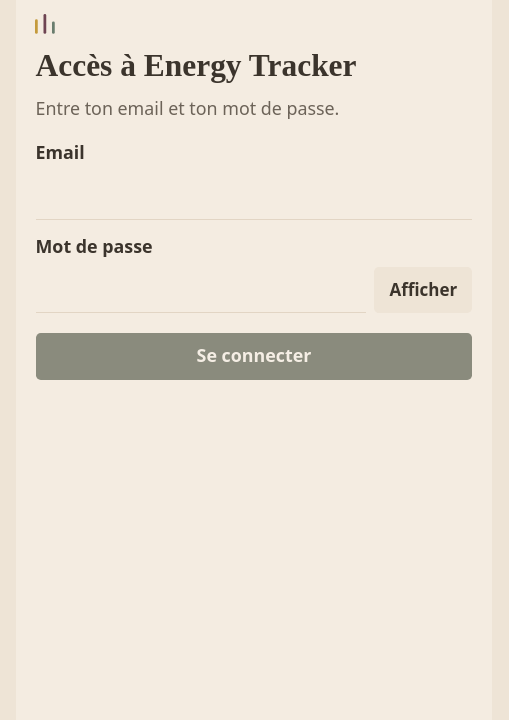
it: LoginPage › mauvais mot de passe affiche une erreur calme
The width and height of the screenshot is (509, 720).
Type "lucas@example.test" into the field labelled "Email".
click(254, 196); type("lucas@example.test")  # box [36,173,472,220]
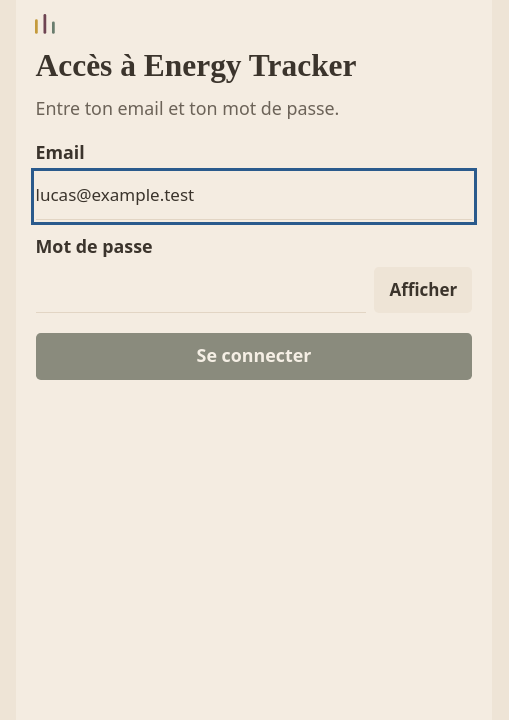
Type "wrong" into the password field labelled "Mot de passe".
click(201, 290); type("wrong")  # box [36,267,366,314]
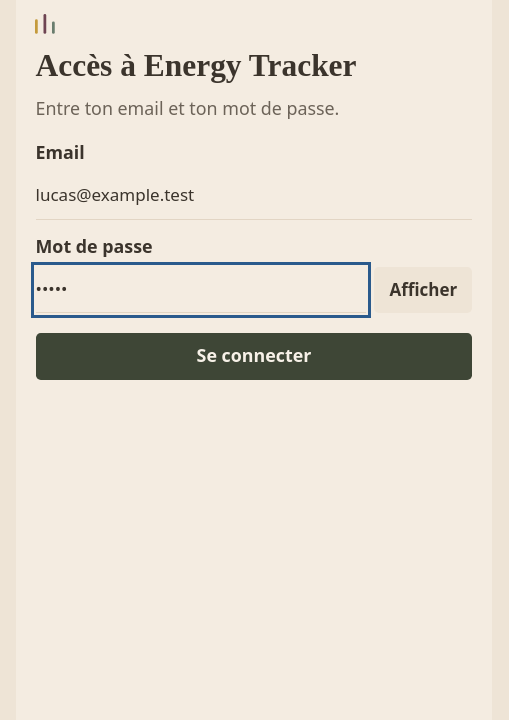
Click the button "Se connecter".
click(254, 356)  # box [36,333,472,380]
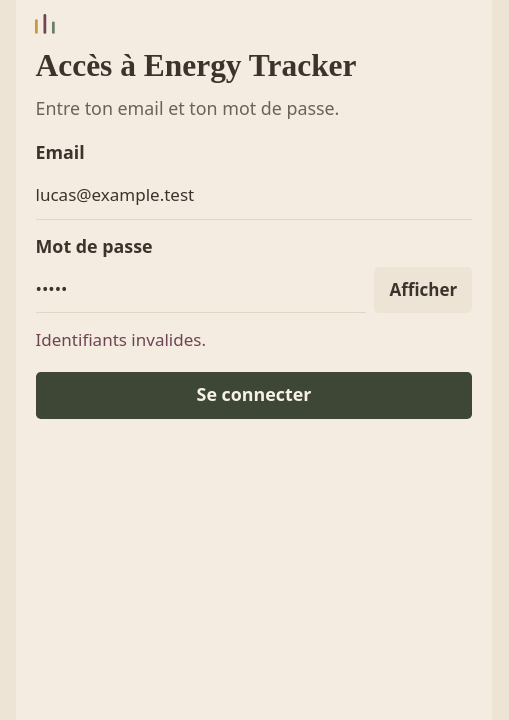
Check: the heading "Accès à Energy Tracker" is shown, box [36,48,356,83]
Check: the message reads "Identifiants invalides.", box [36,328,206,351]
